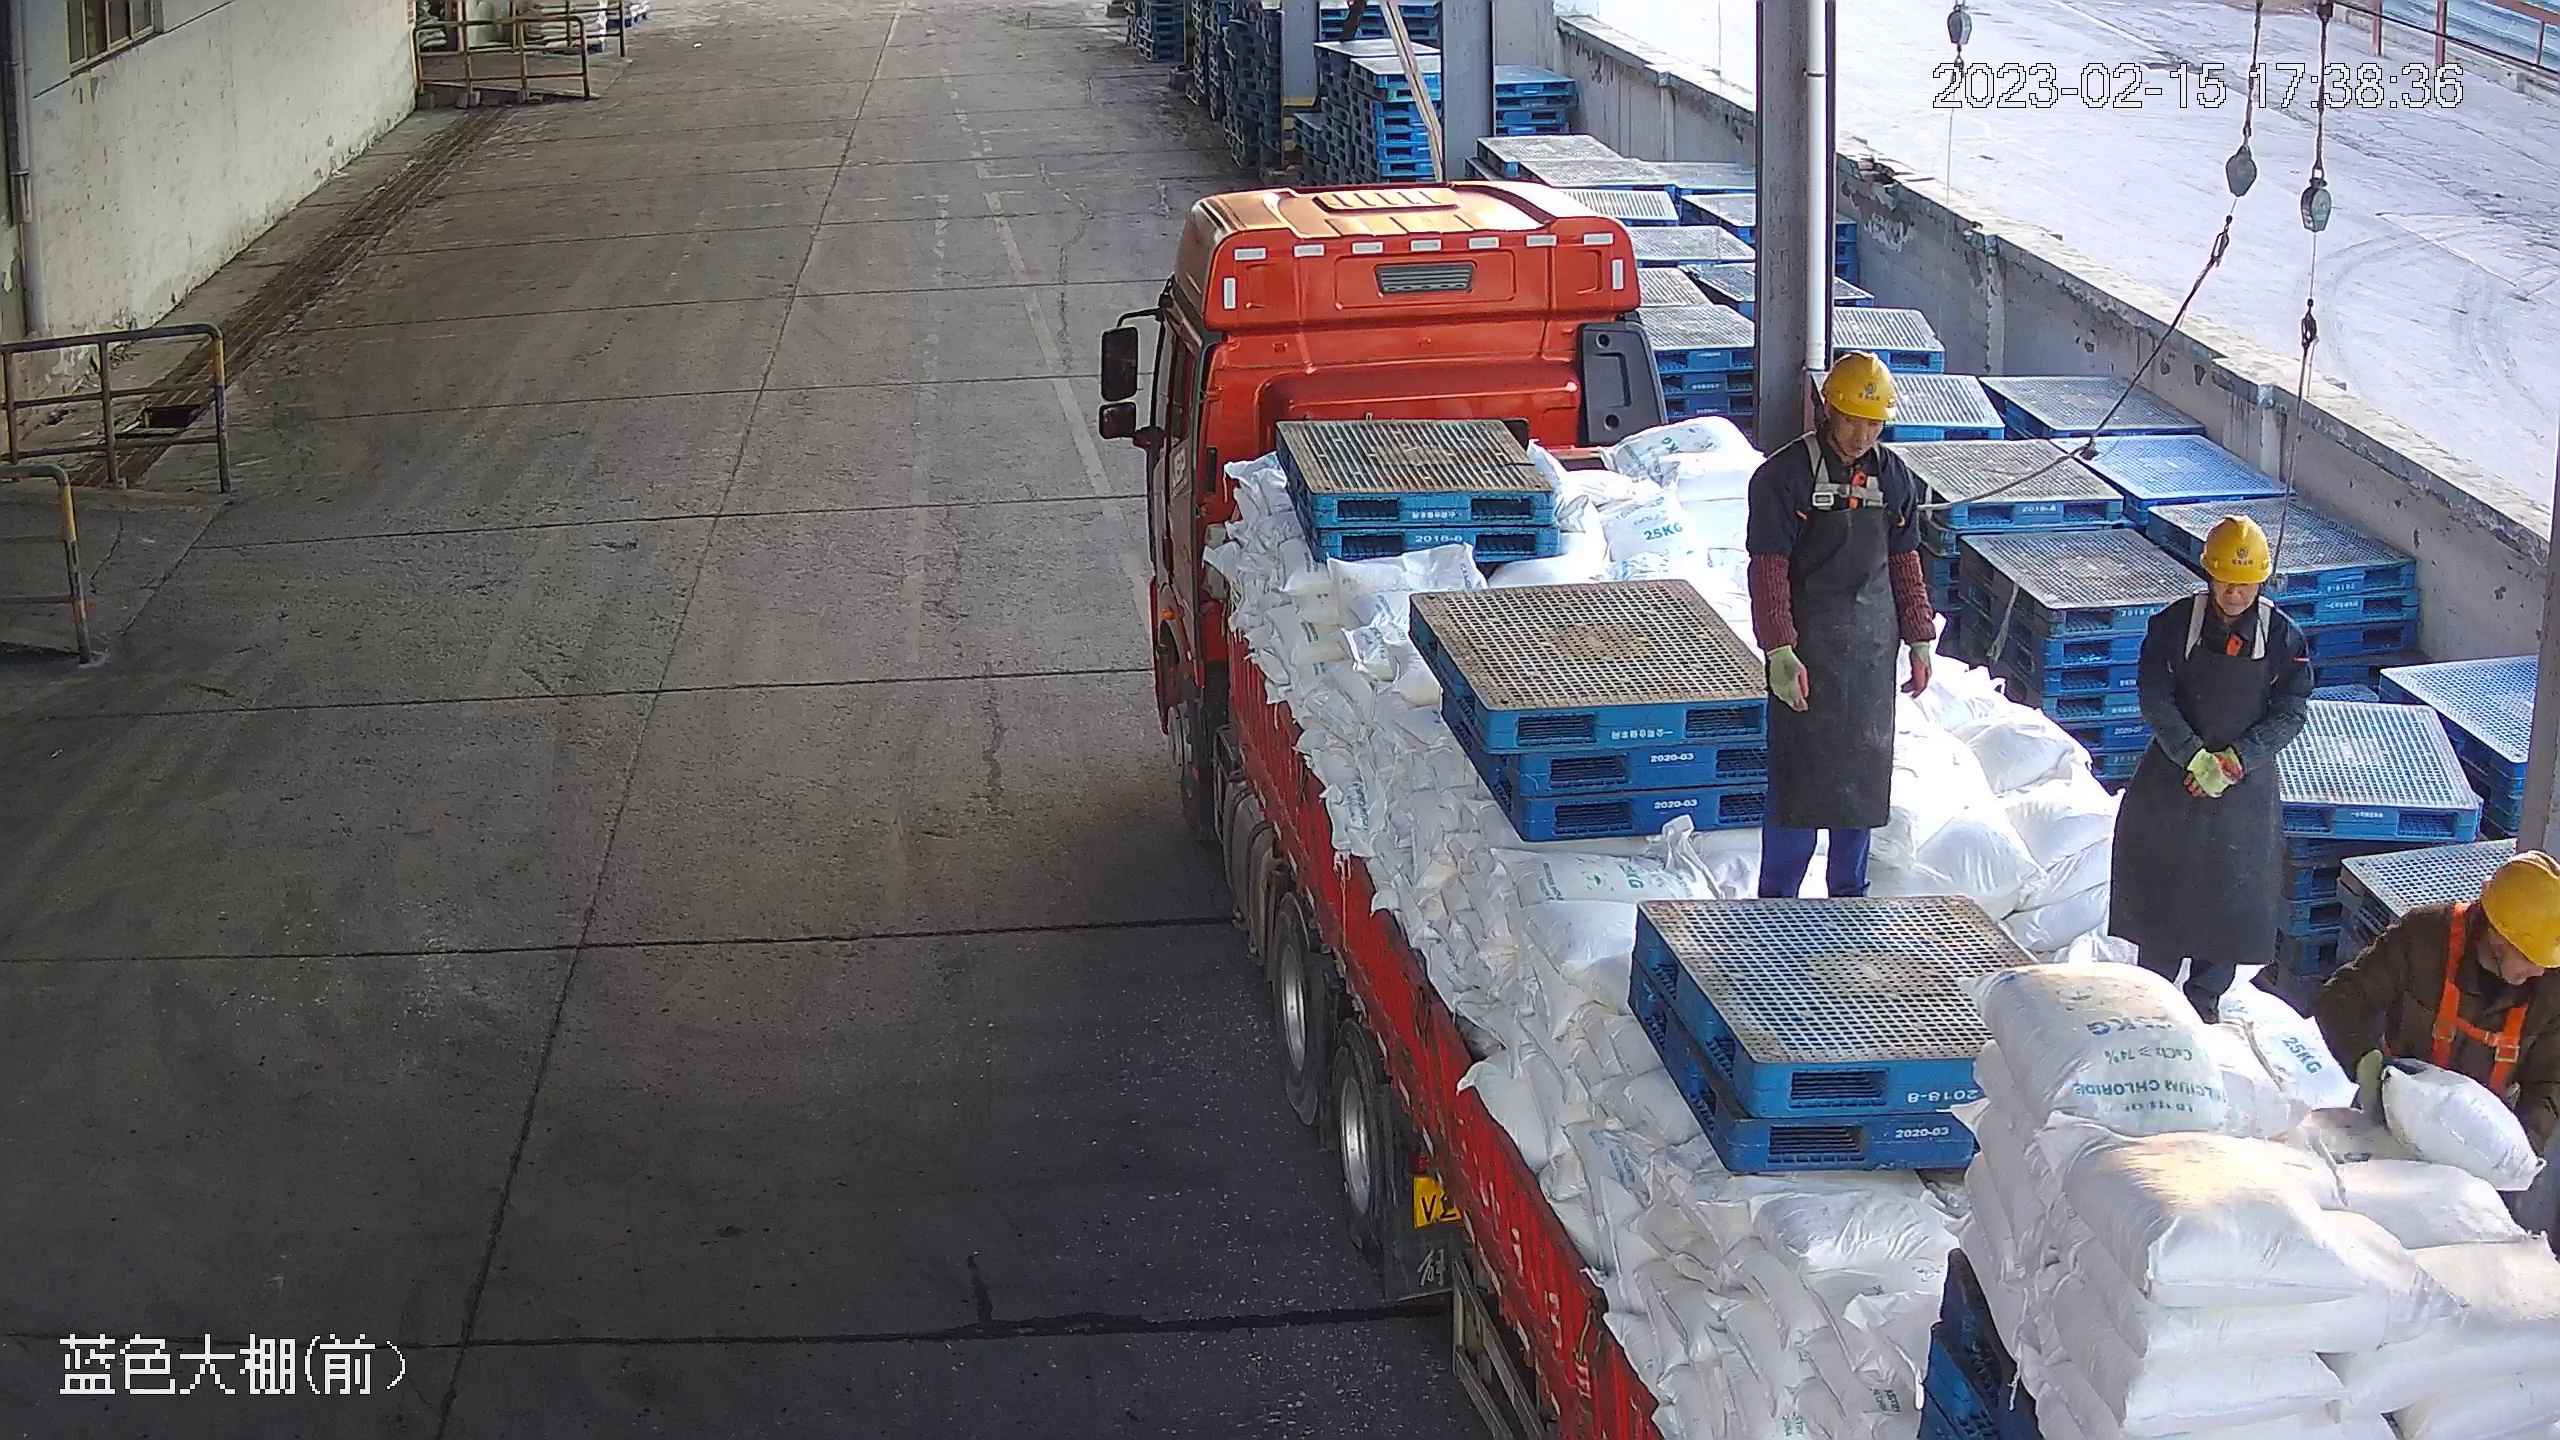belt: (2432, 987, 2551, 1092), (2177, 608, 2270, 662), (1802, 458, 1888, 513)
head: (2404, 841, 2560, 1020), (1753, 350, 1913, 493), (2162, 516, 2295, 657)
helmet: (2472, 844, 2560, 969), (1818, 348, 1900, 420), (2195, 515, 2279, 583)
people: (1737, 353, 1935, 895), (2125, 518, 2325, 1023)
truck: (1097, 174, 2560, 1440)
